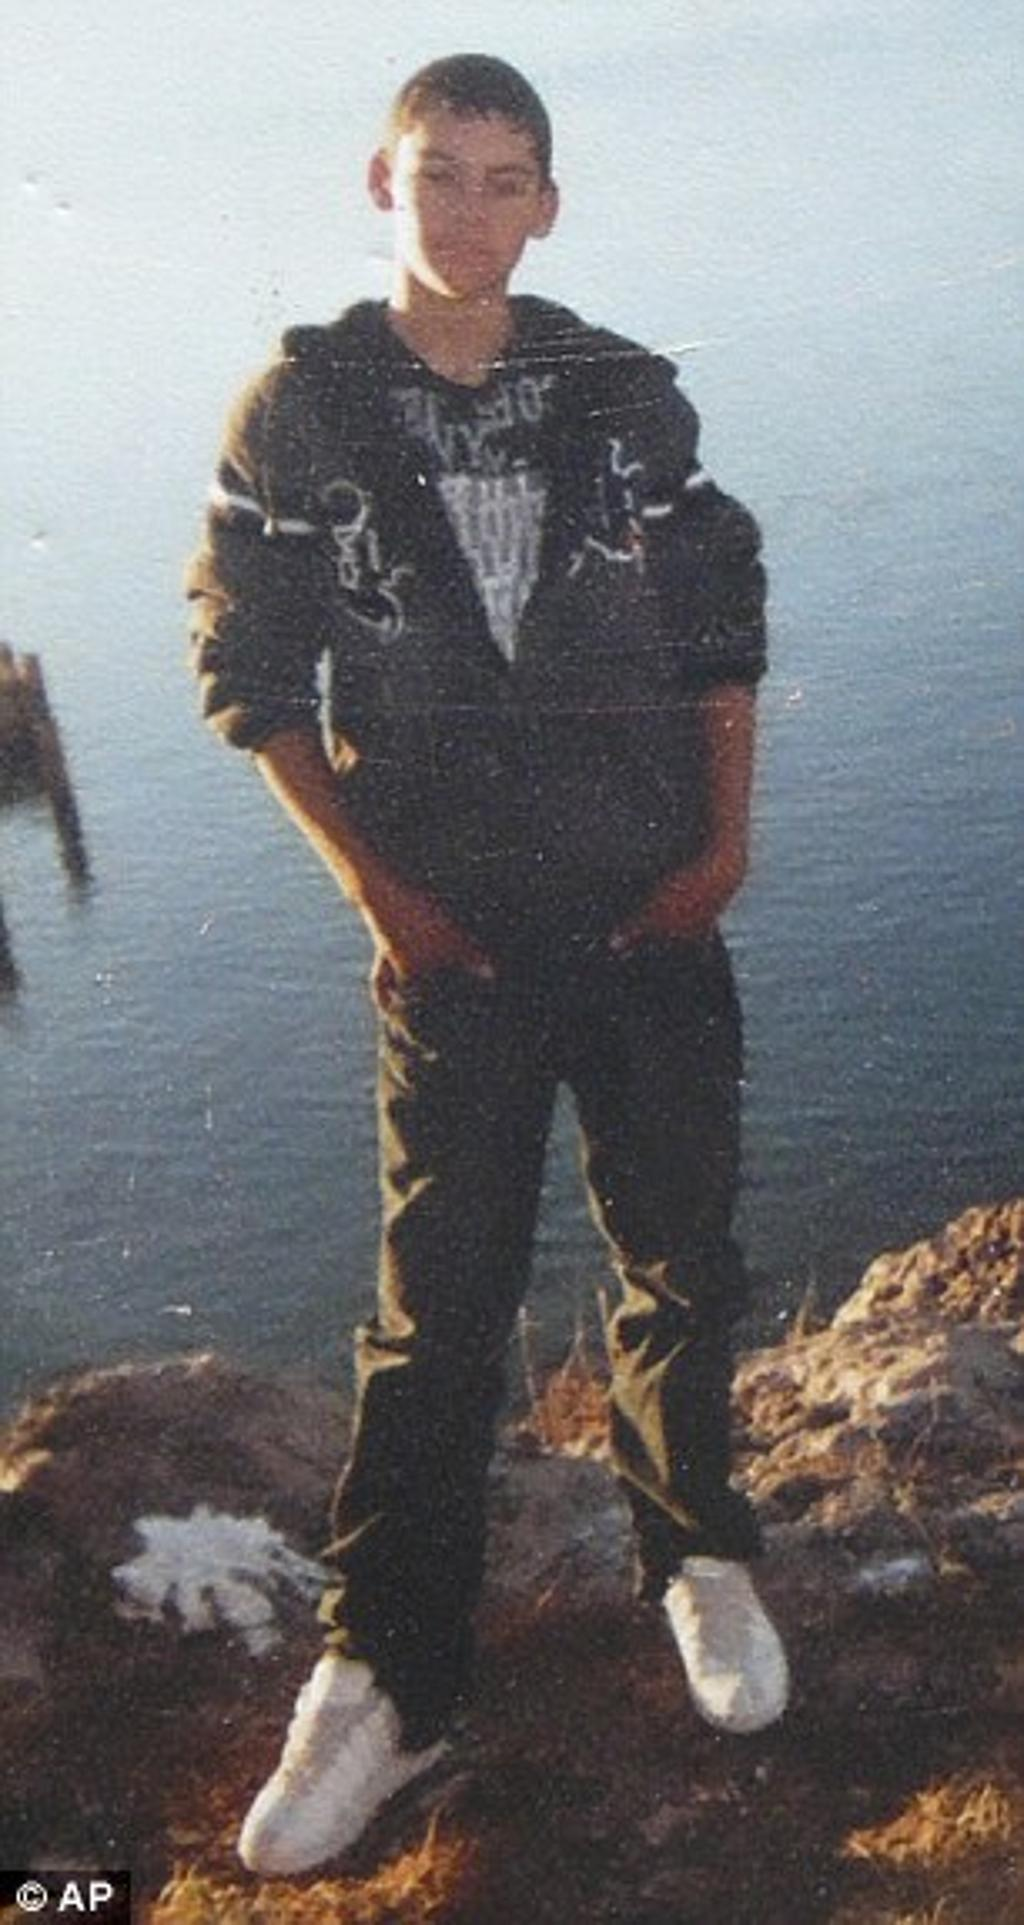face: (400, 129, 543, 298)
